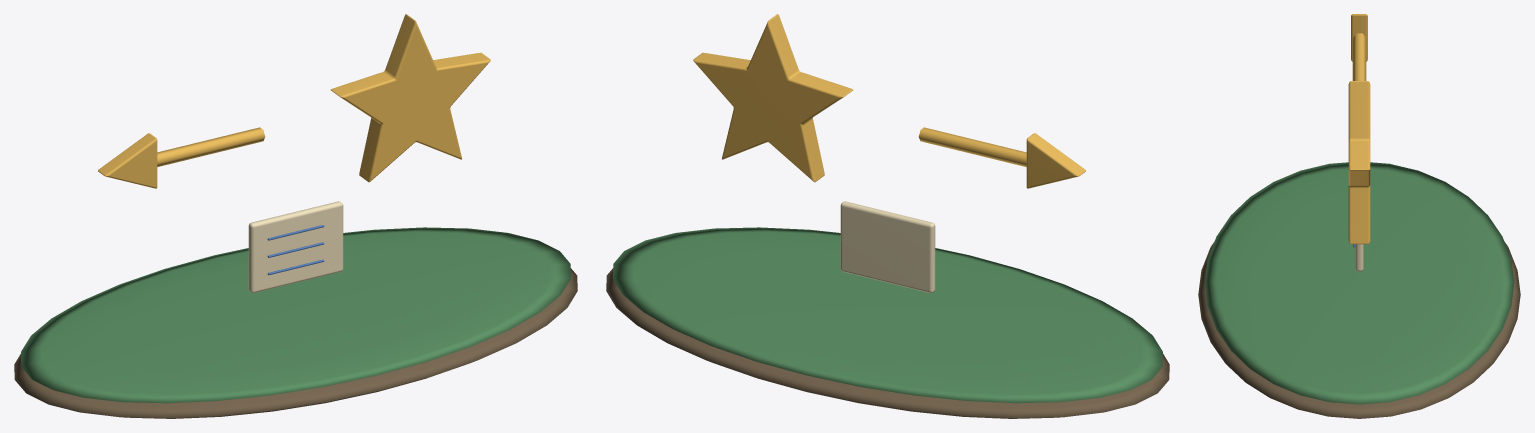
File: complete-first-west-show-ticket.glb
3 views of the same model, side by side, from view 1: azimuth 30°, elevation 25°; view 2: azimuth 150°, elevation 25°; view 3: azimuth 270°, elevation 25° (orthographic). The views are drawn at different scales.
Parts seen in each view (by area): view 1: complete-first-west-show-ticket_surface_01, complete-first-west-show-ticket_surface_02, complete-first-west-show-ticket_surface_00, complete-first-west-show-ticket_surface_03, complete-first-west-show-ticket_surface_04; view 2: complete-first-west-show-ticket_surface_01, complete-first-west-show-ticket_surface_02, complete-first-west-show-ticket_surface_00, complete-first-west-show-ticket_surface_03; view 3: complete-first-west-show-ticket_surface_01, complete-first-west-show-ticket_surface_00, complete-first-west-show-ticket_surface_02.
Part boxes in pixels (<box>): complete-first-west-show-ticket_surface_01: <box>21,227,570,403</box>; complete-first-west-show-ticket_surface_02: <box>98,14,490,188</box>; complete-first-west-show-ticket_surface_00: <box>14,268,577,418</box>; complete-first-west-show-ticket_surface_03: <box>248,201,343,292</box>; complete-first-west-show-ticket_surface_04: <box>267,225,324,275</box>; complete-first-west-show-ticket_surface_01: <box>613,227,1162,403</box>; complete-first-west-show-ticket_surface_02: <box>693,14,1085,188</box>; complete-first-west-show-ticket_surface_00: <box>606,268,1169,418</box>; complete-first-west-show-ticket_surface_03: <box>840,201,935,292</box>; complete-first-west-show-ticket_surface_01: <box>1204,162,1514,404</box>; complete-first-west-show-ticket_surface_00: <box>1198,242,1520,418</box>; complete-first-west-show-ticket_surface_02: <box>1348,14,1370,244</box>.
Size of the model in its own units: 4.56 by 2.41 by 2.5.
